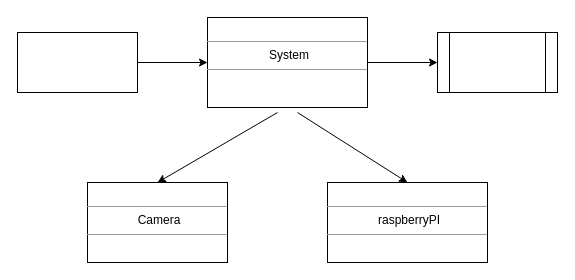
The diagram is 575 pixels wide and 280 high, and some of its shapes have lost their labels. Here are the shapes that lost their labels. From the top down, the box of each, then its label:
(16, 32, 138, 92): User
(436, 32, 558, 92): Live traffic
